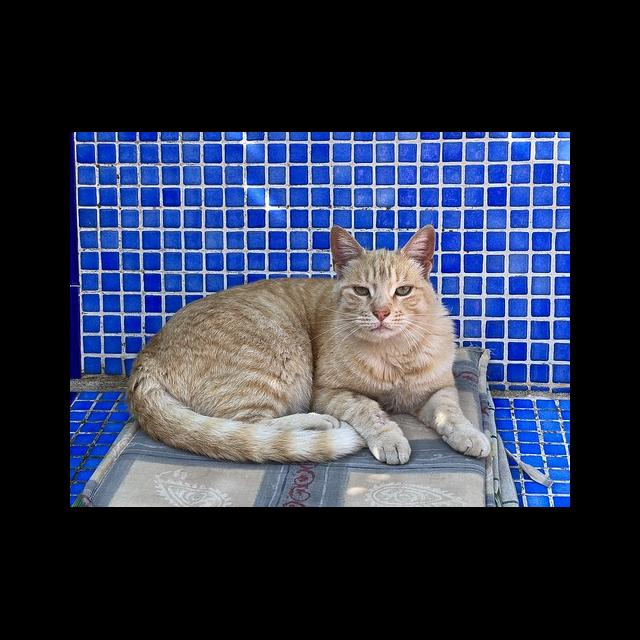animals: (128, 224, 492, 466)
